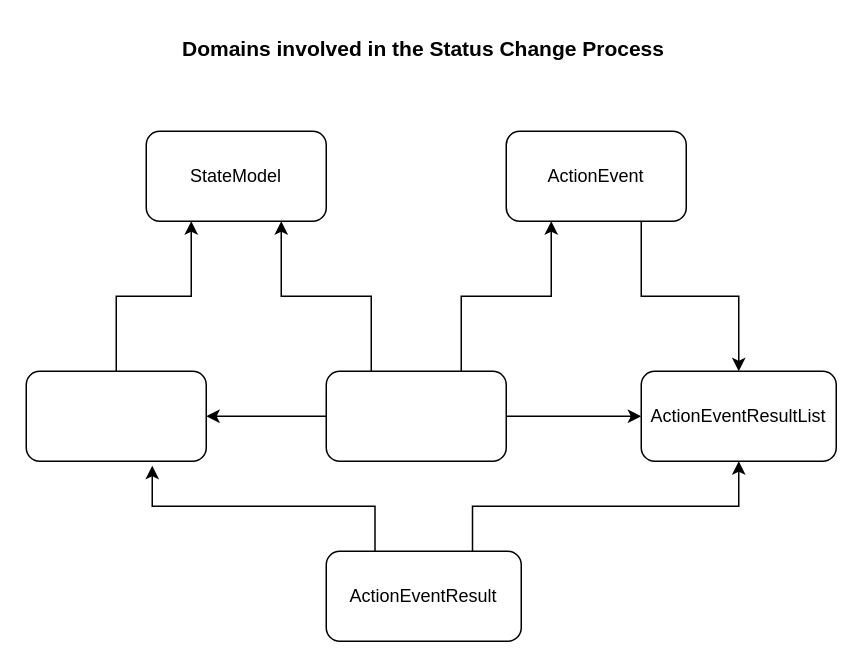
This 863x668 diagram has some shape labels left out. The shapes that lost their labels are listed below. From the top down, each one's centre as x and y in pixels, then its label:
[115,415]: Status
[415,415]: AvailableAction
